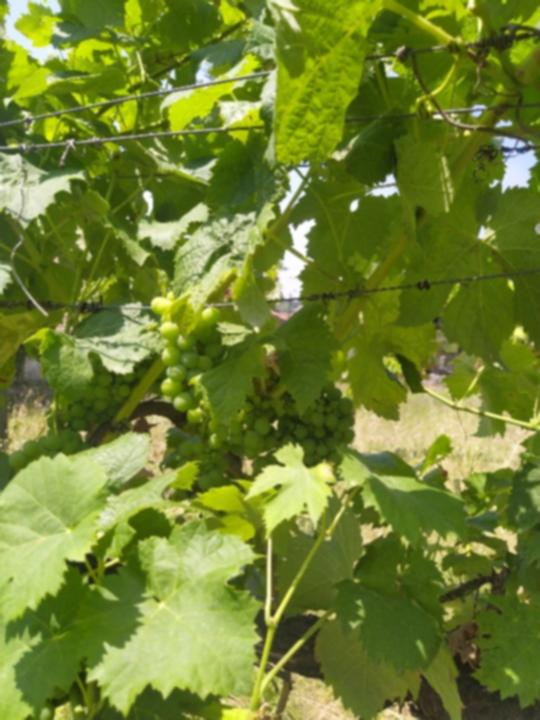grape: (147, 286, 226, 426), (272, 377, 356, 469)
